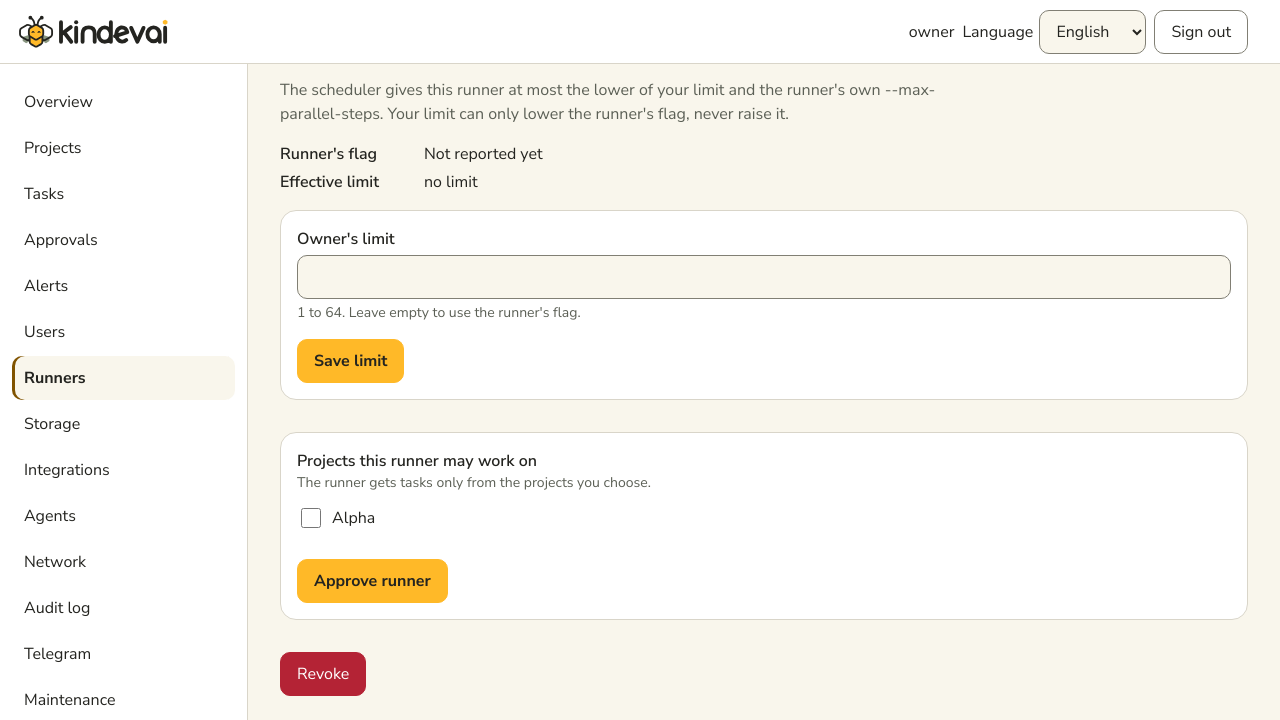
Test: runner card (owner) › rejects a pending runner by revoking it
This screenshot has width=1280, height=720.
(page scrolled)
Click the button "Revoke": (323, 674) [280,652,366,696]
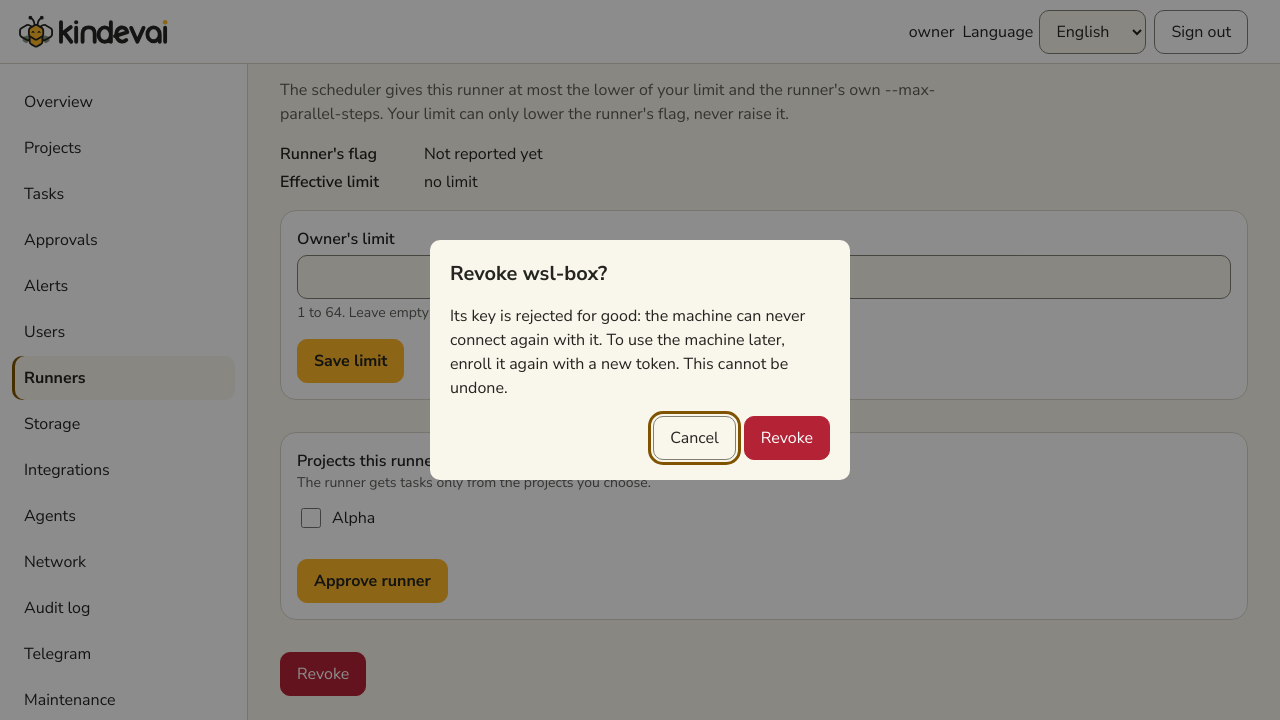
Click the button "Revoke": (787, 438) [744,416,830,460]
(page scrolled)
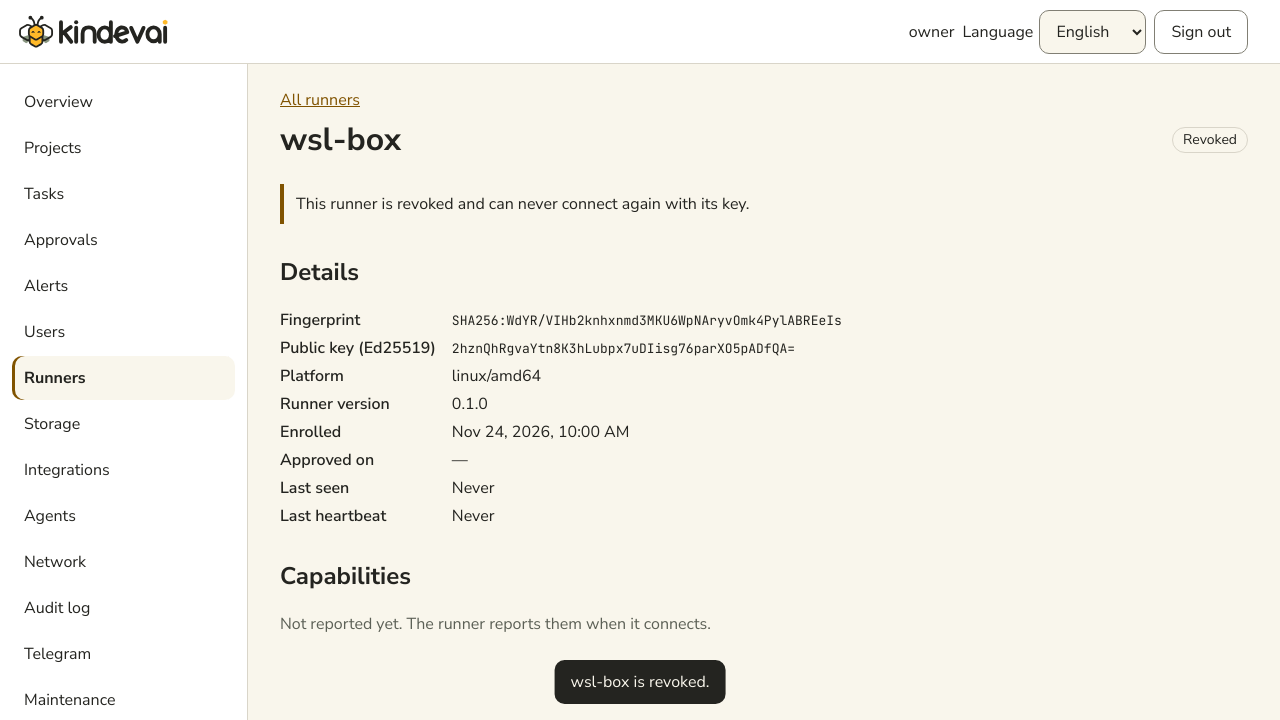
Now the text "wsl-box is revoked." is shown, box [555,660,725,704]
Now the text "can never connect again" is shown, box [296,193,749,215]
Now the button "Approve runner" is gone
